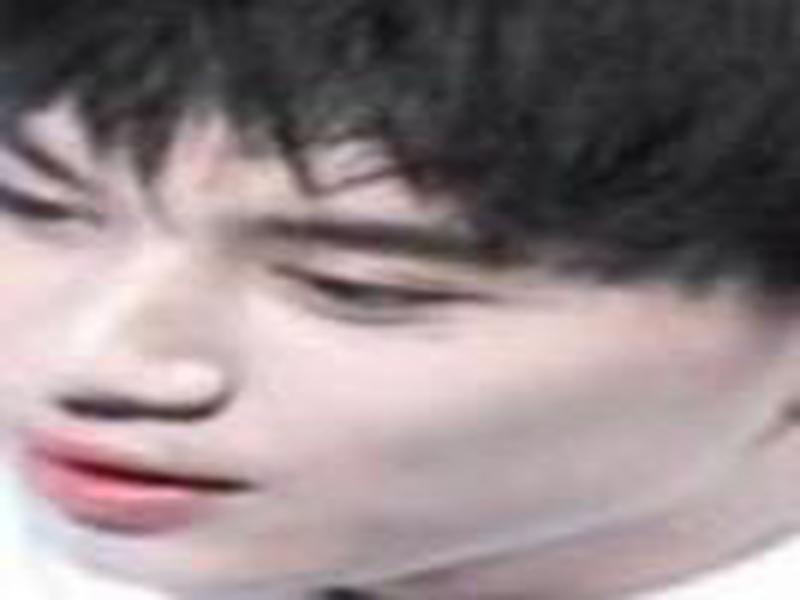without_mask: (4, 106, 761, 595)
